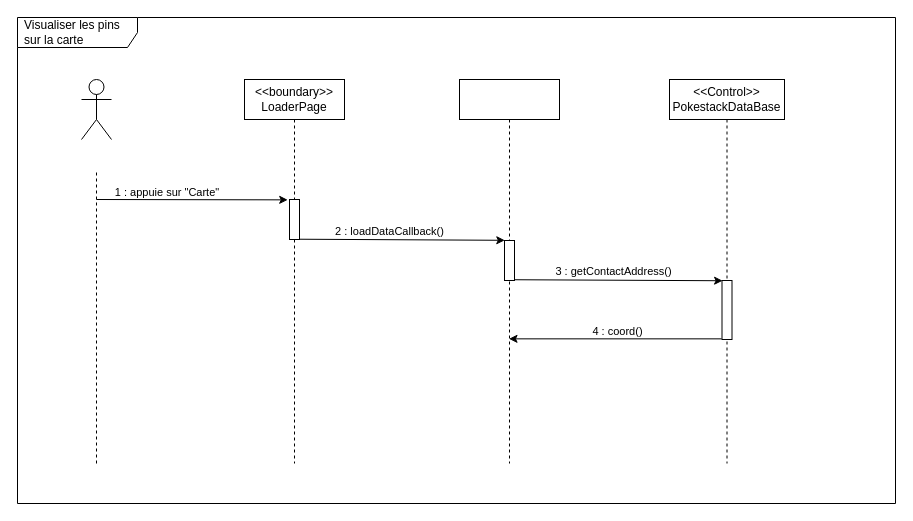
Some shapes in this 913 by 521 pixel diagram are drawn without their labels. Each missing label, with the box of its shape:
: utilisateur: (80, 78, 112, 140)
<<boundary>> MapView: (458, 78, 560, 464)
